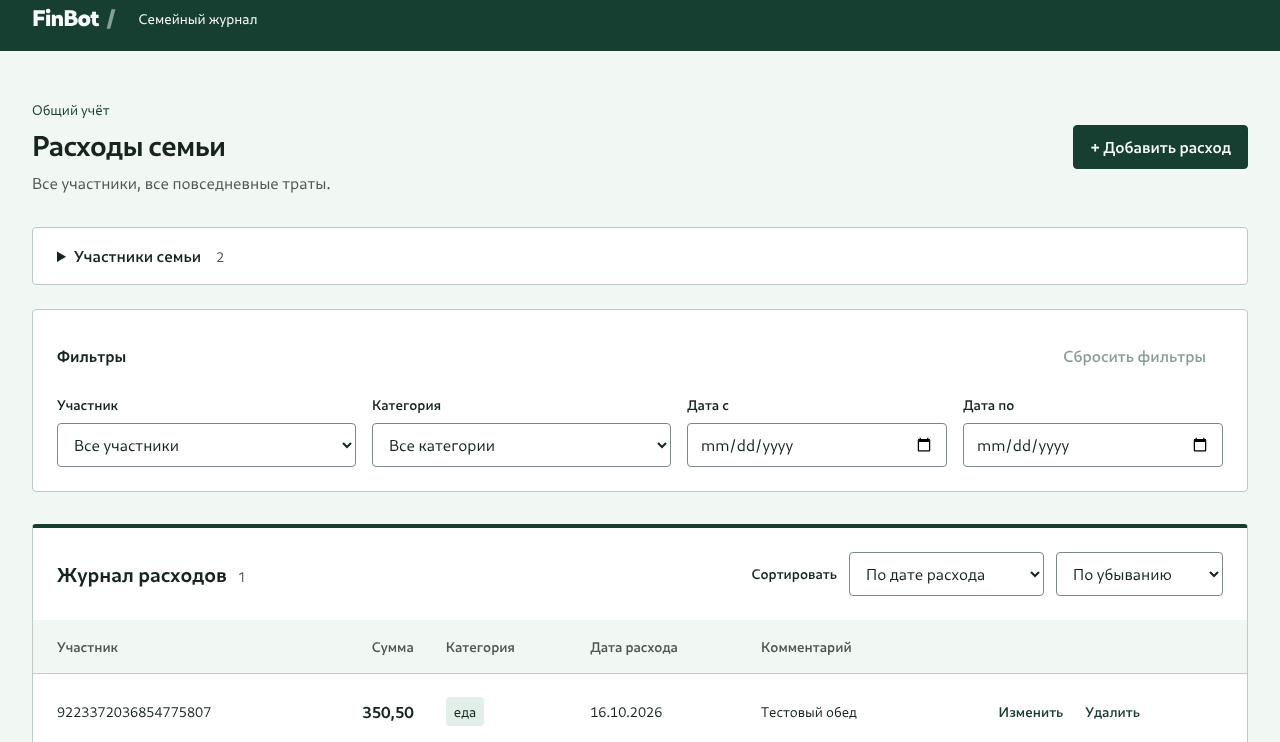
Test case: expense journal › fetches current detail and PATCHes only the changed field
Click the button "Изменить".
click(1031, 712)  # box [990,690,1072,734]
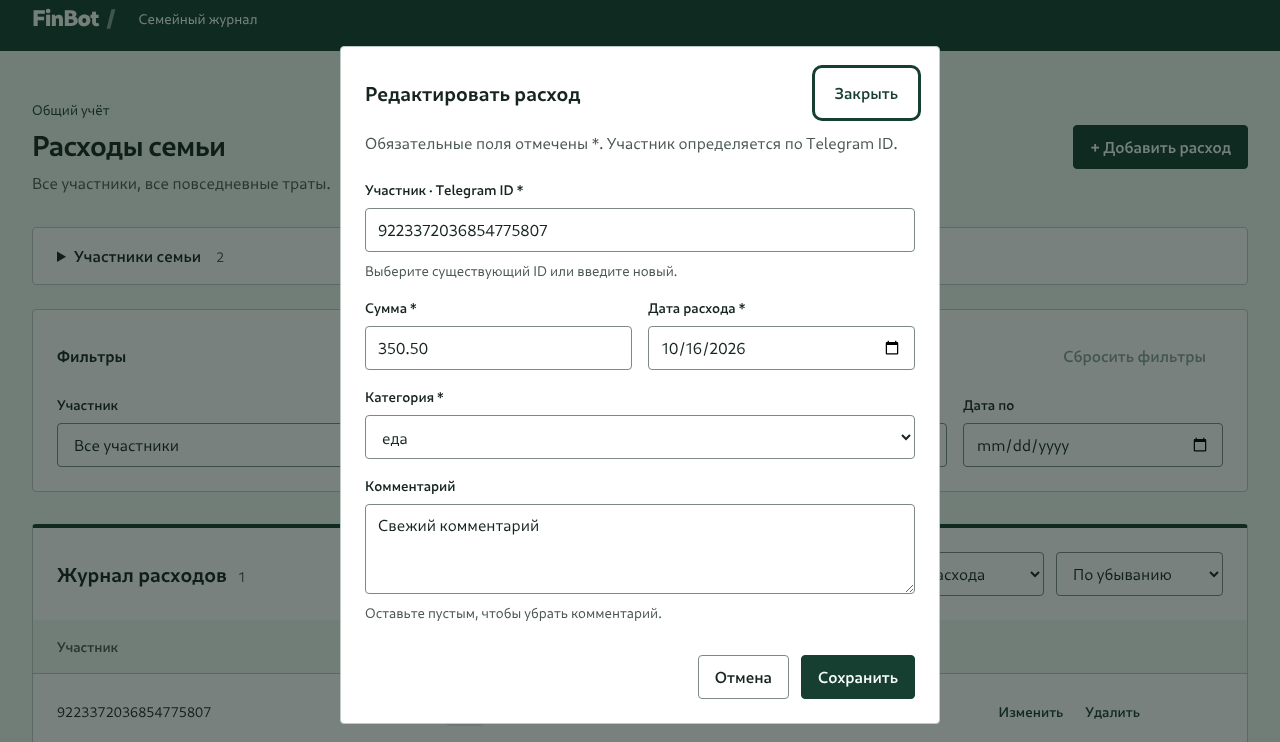
Check: the text box labelled "Комментарий" holds "Свежий комментарий", box [365,504,915,594]
Type "450.5" into the field labelled "Сумма *".
click(498, 348); type("450.5")  # box [365,326,632,370]
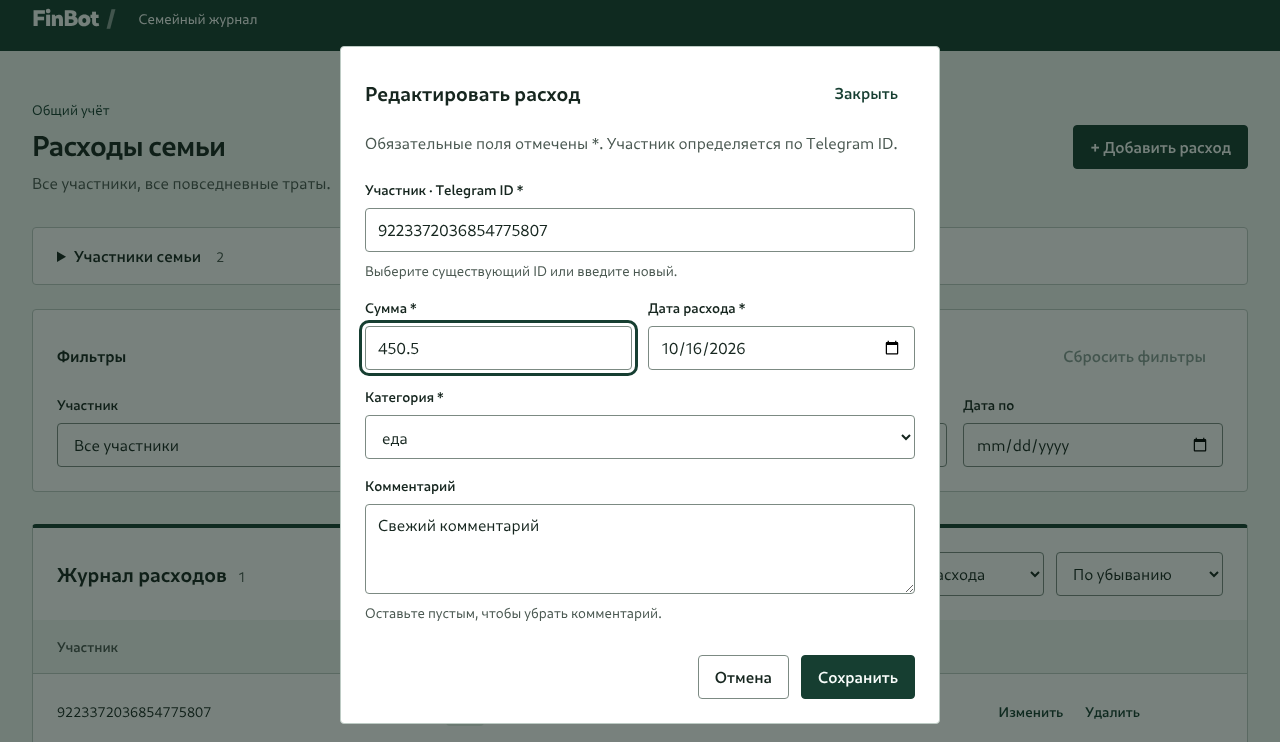
Click the button "Сохранить".
click(858, 677)  # box [801,655,915,699]
(page scrolled)
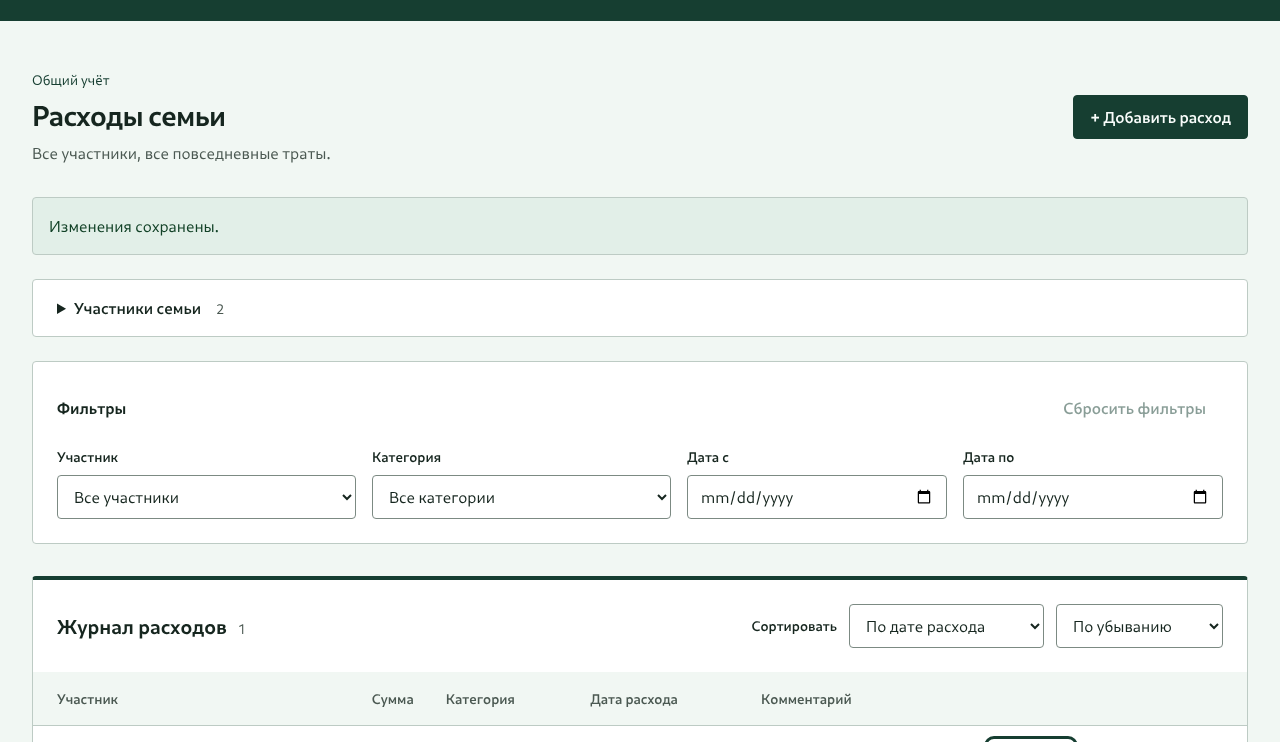
Check: the text "Изменения сохранены." is shown, box [32,197,1248,255]
